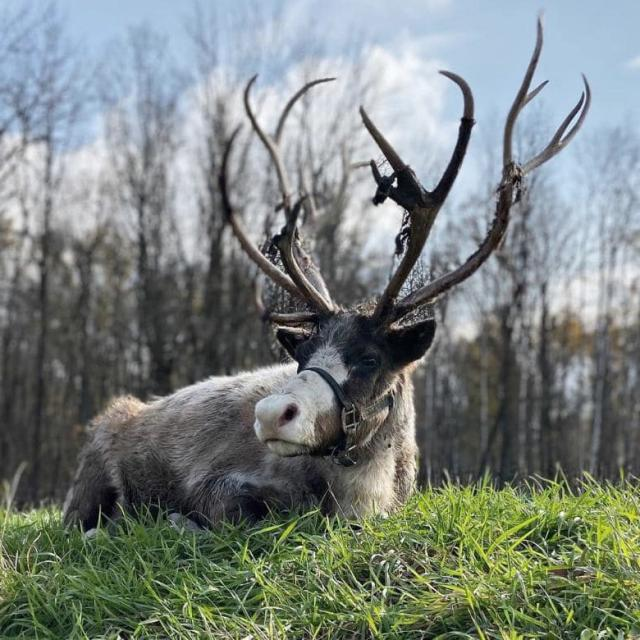reindeer: (65, 21, 591, 529)
